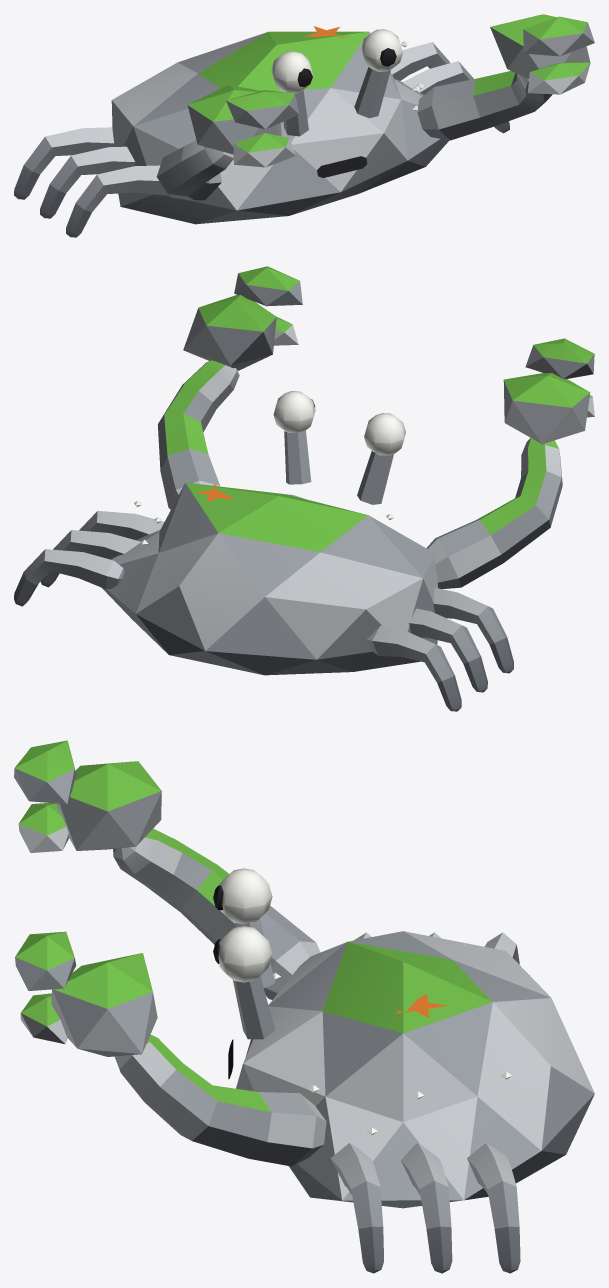
File: RocaCangrejo.fbx
3 views of the same model, one above another, from view 1: azimuth 30°, elevation 25°; view 2: azimuth 150°, elevation 25°; view 3: azimuth 270°, elevation 25° (orthographic). The views are drawn at different scales.
Visible parts, largest first — view 1: RocaCangrejo; view 2: RocaCangrejo; view 3: RocaCangrejo.
Part boxes in pixels (<box>): RocaCangrejo: <box>14,14,594,237</box>; RocaCangrejo: <box>14,266,594,711</box>; RocaCangrejo: <box>14,740,594,1273</box>.
Size of the model in its own units: 17.75 by 8.52 by 15.34.
1 material, 1 textured.
